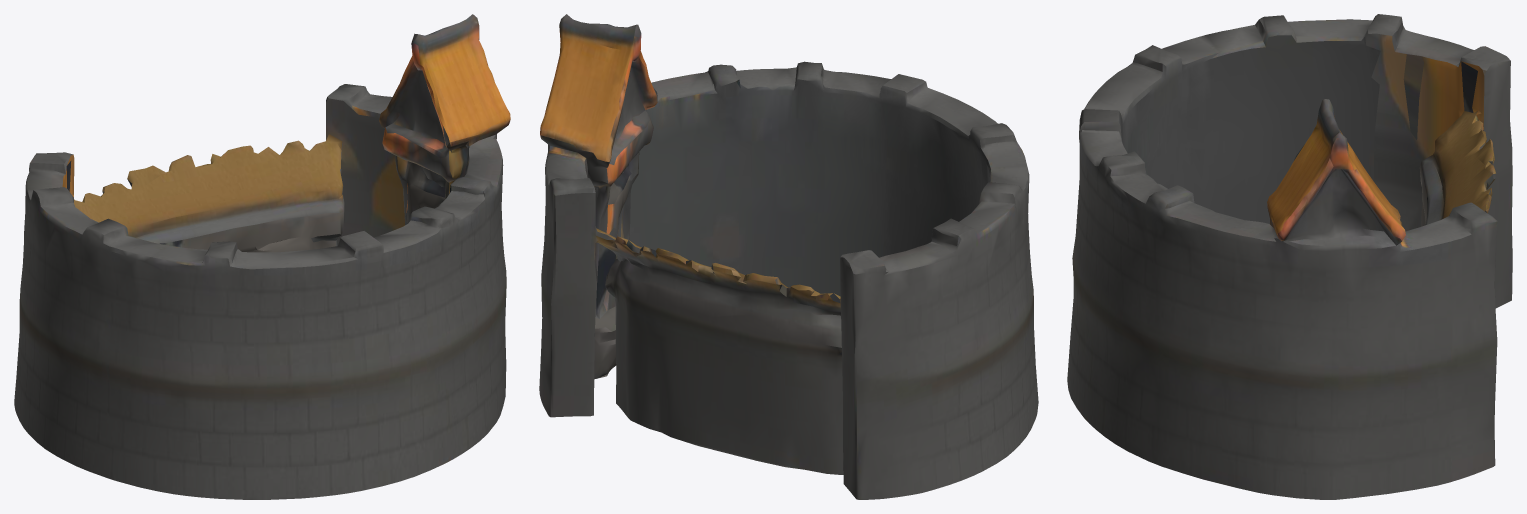
File: tawantinsuyu_qorikancha.glb
3 views of the same model, side by side, from view 1: azimuth 30°, elevation 25°; view 2: azimuth 150°, elevation 25°; view 3: azimuth 270°, elevation 25° (orthographic). The views are drawn at different scales.
Parts seen in each view (by area): view 1: geometry_0; view 2: geometry_0; view 3: geometry_0.
Part boxes in pixels (x1,y1,x2,y2): geometry_0: (14,14,510,499); geometry_0: (539,14,1038,499); geometry_0: (1067,14,1512,499).
Size of the model in its own units: 3.4 by 2.43 by 2.7.
1 material, 1 textured.
